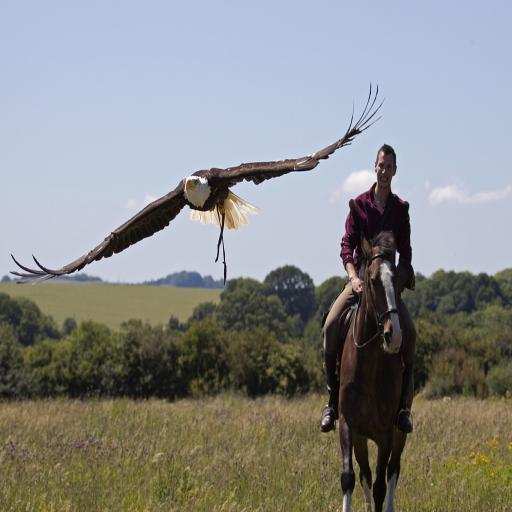horse: (338, 228, 410, 512)
